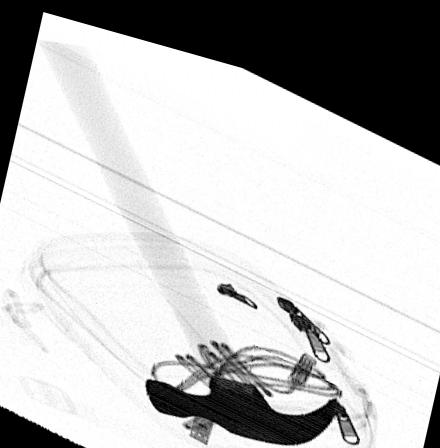Hammer: (36, 38, 338, 429)
